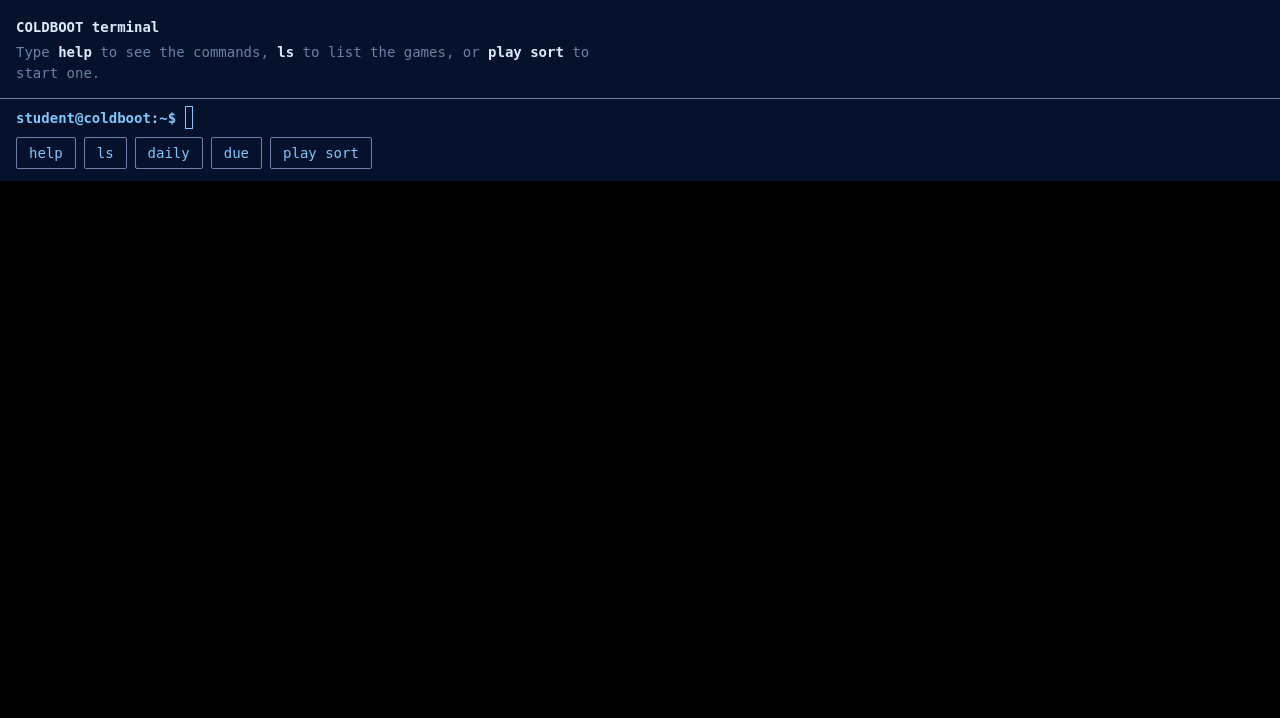
Test: G2 games in the terminal › plays types: feedback, recording and re-prompts
In the field labelled "student@coldboot:~$": point(724, 118) [185, 106, 1264, 129], type "play types"
Then press Enter
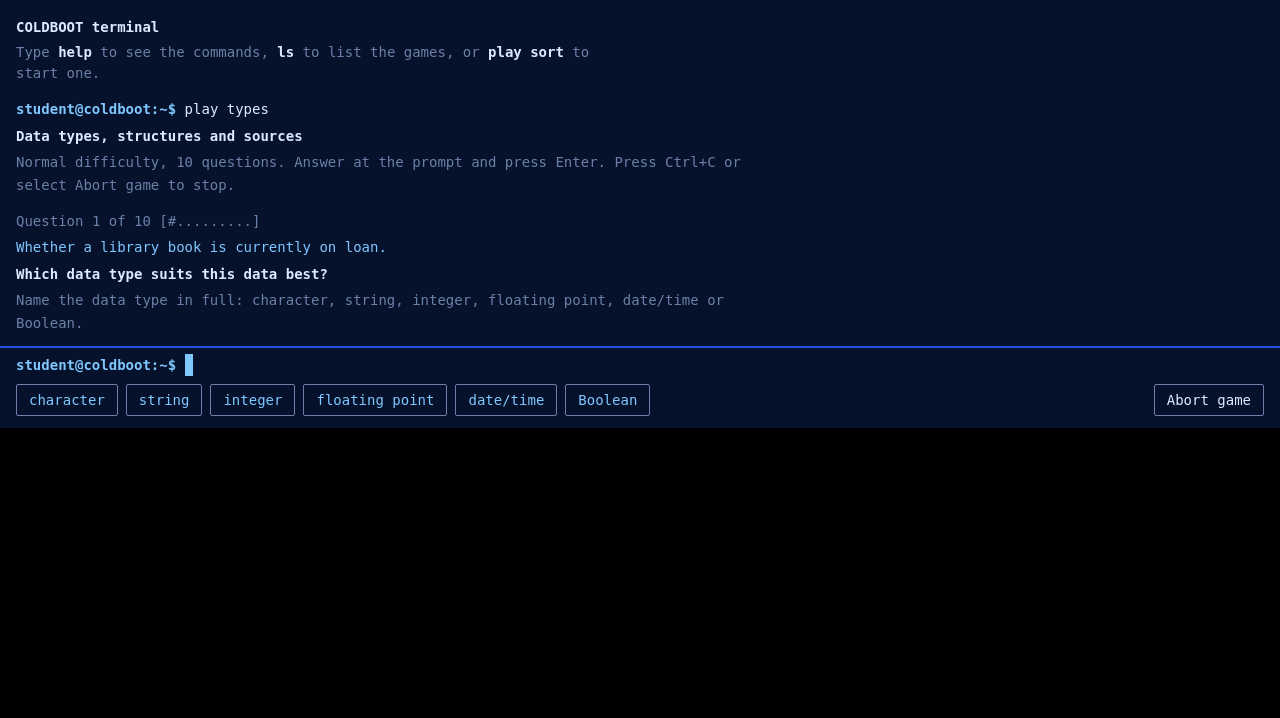
Check: the text "Data types, structures and sources" is shown, box [16, 128, 303, 144]
In the field labelled "student@coldboot:~$": point(724, 365) [185, 354, 1264, 376], type "maybe"
Then press Enter
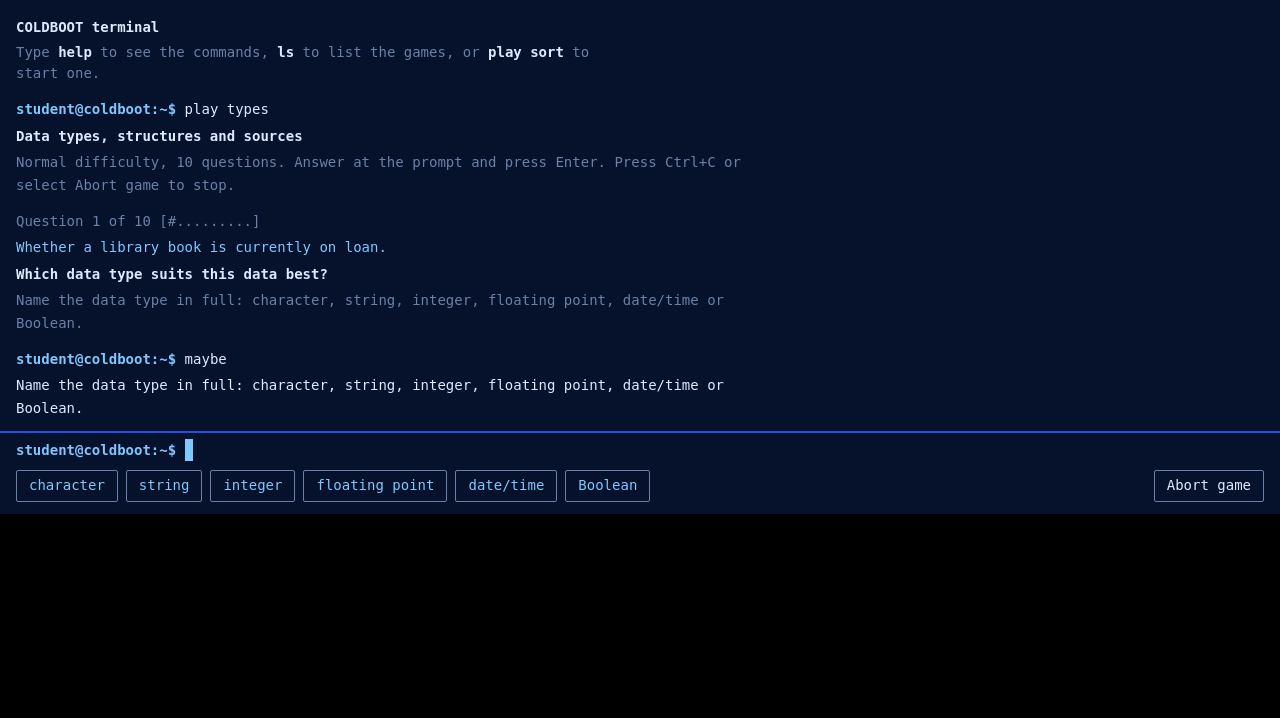
In the field labelled "student@coldboot:~$": point(724, 450) [185, 439, 1264, 462], type "Boolean"
Then press Enter
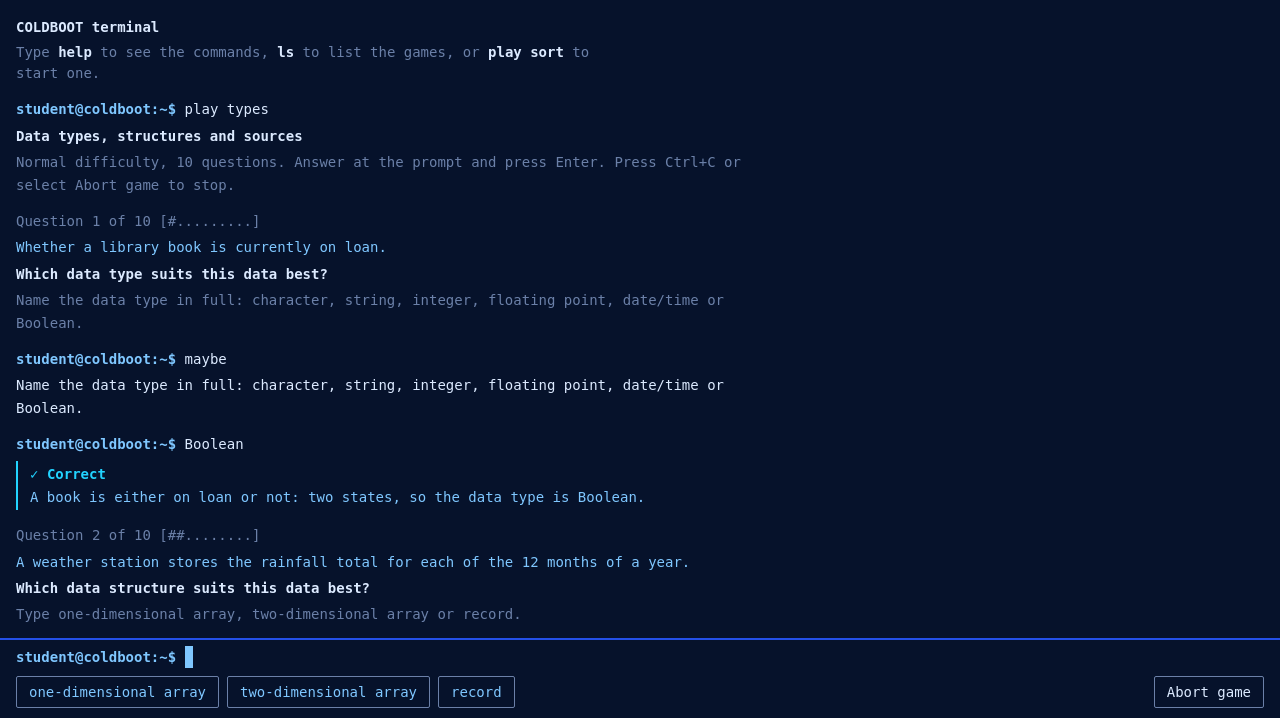
Check: the text "Correct" is shown, box [47, 466, 106, 482]
In the field labelled "student@coldboot:~$": point(724, 657) [185, 646, 1264, 668], type "two-dimensional array"
Then press Enter
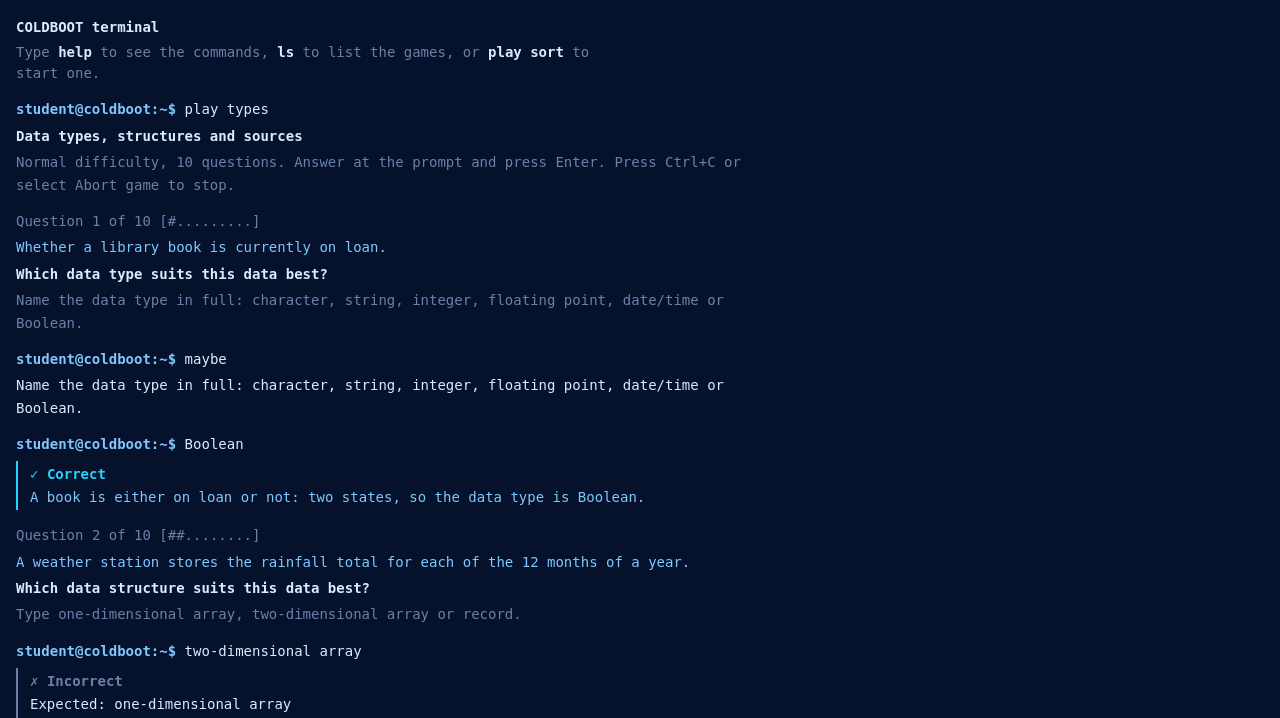
Check: the text "Incorrect" is shown, box [47, 673, 123, 689]
